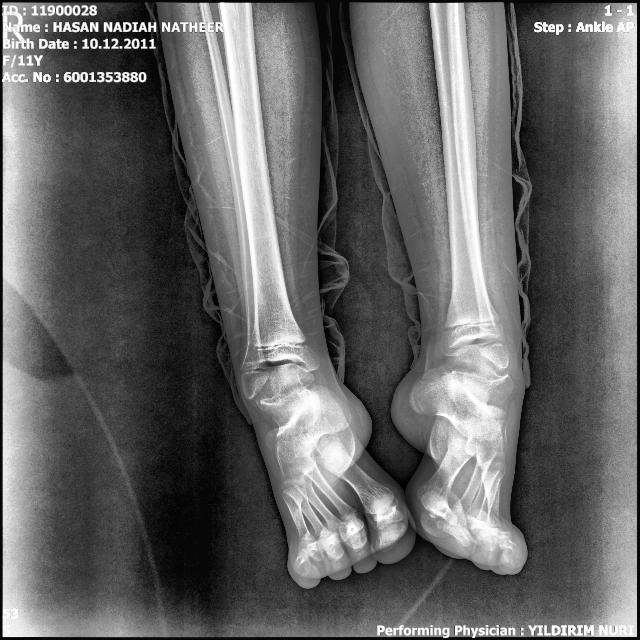Not_Fracture: (153, 0, 534, 593)
